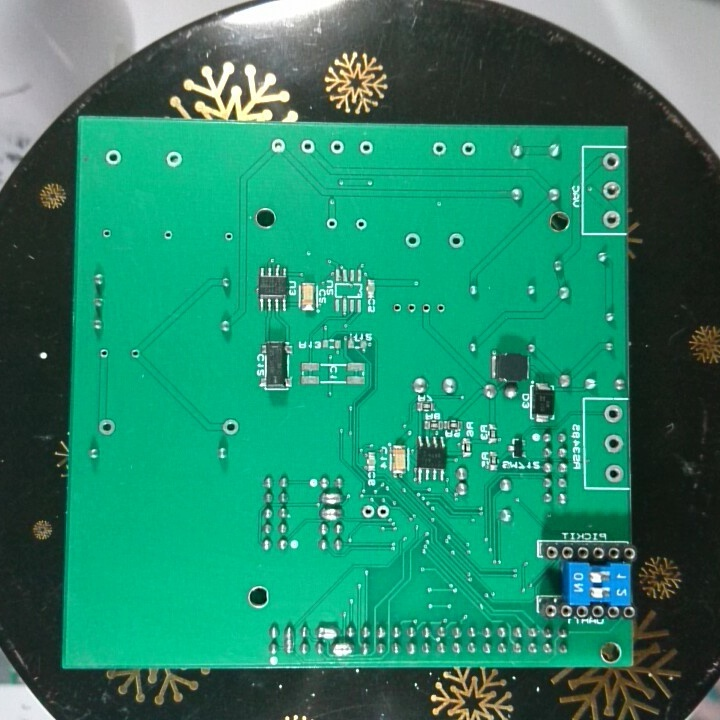F: (602, 432, 625, 458), (602, 460, 626, 484), (219, 415, 242, 440), (602, 402, 625, 426), (95, 415, 118, 438), (599, 150, 622, 172), (599, 180, 624, 200), (600, 209, 622, 230), (446, 230, 467, 252), (162, 149, 185, 169), (430, 139, 450, 159), (403, 230, 422, 251), (298, 136, 316, 158), (103, 148, 122, 167), (357, 138, 375, 158), (328, 138, 346, 158), (269, 137, 287, 157), (460, 140, 479, 158), (353, 215, 370, 233), (322, 215, 340, 232), (376, 502, 391, 522), (360, 503, 376, 521), (128, 346, 145, 362), (390, 300, 405, 318), (418, 300, 433, 318), (97, 345, 112, 362), (433, 299, 447, 317), (221, 229, 235, 246), (403, 300, 417, 317), (161, 228, 175, 243), (100, 226, 113, 242)
P: (281, 622, 298, 657), (318, 489, 346, 509), (329, 639, 355, 658), (317, 506, 347, 522), (314, 623, 342, 640)
